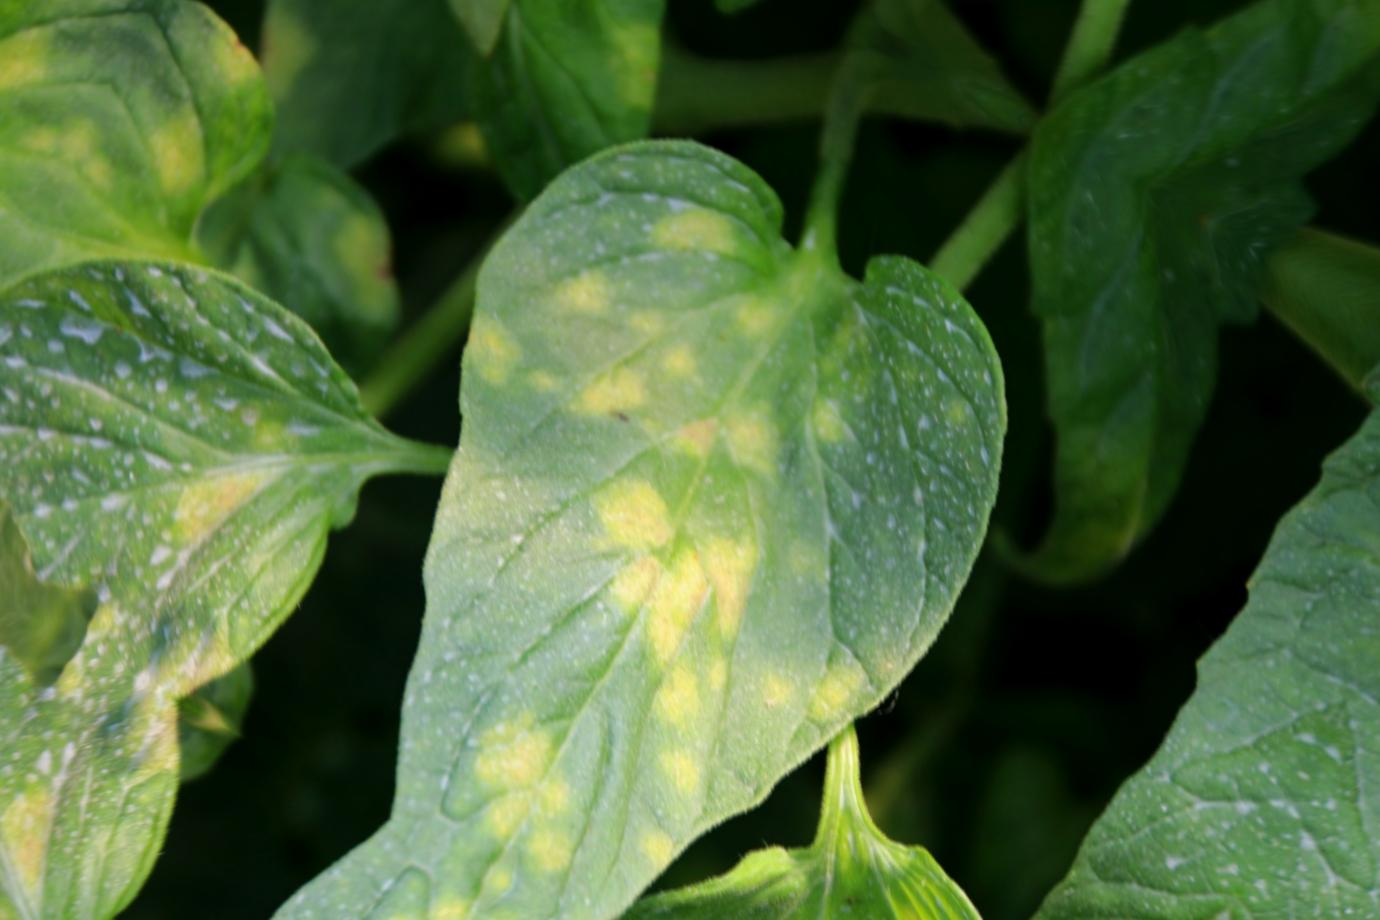Tomato mold leaf: (220, 44, 1097, 920)
